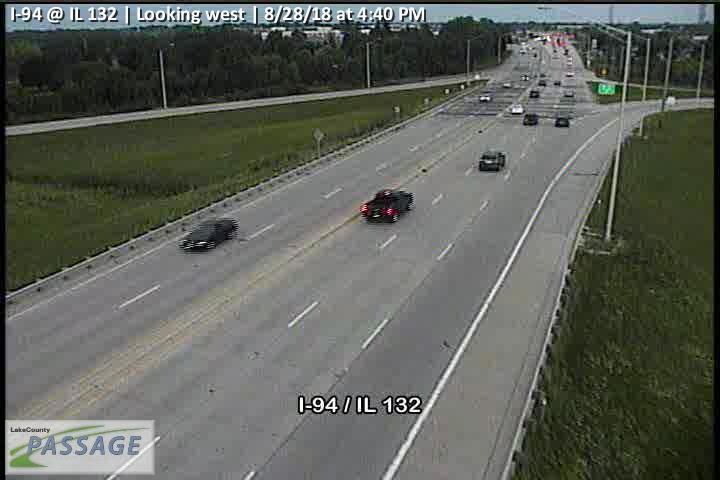Sedan: (179, 217, 239, 251), (360, 189, 414, 222), (480, 151, 505, 171), (555, 117, 570, 127), (524, 114, 537, 124)
